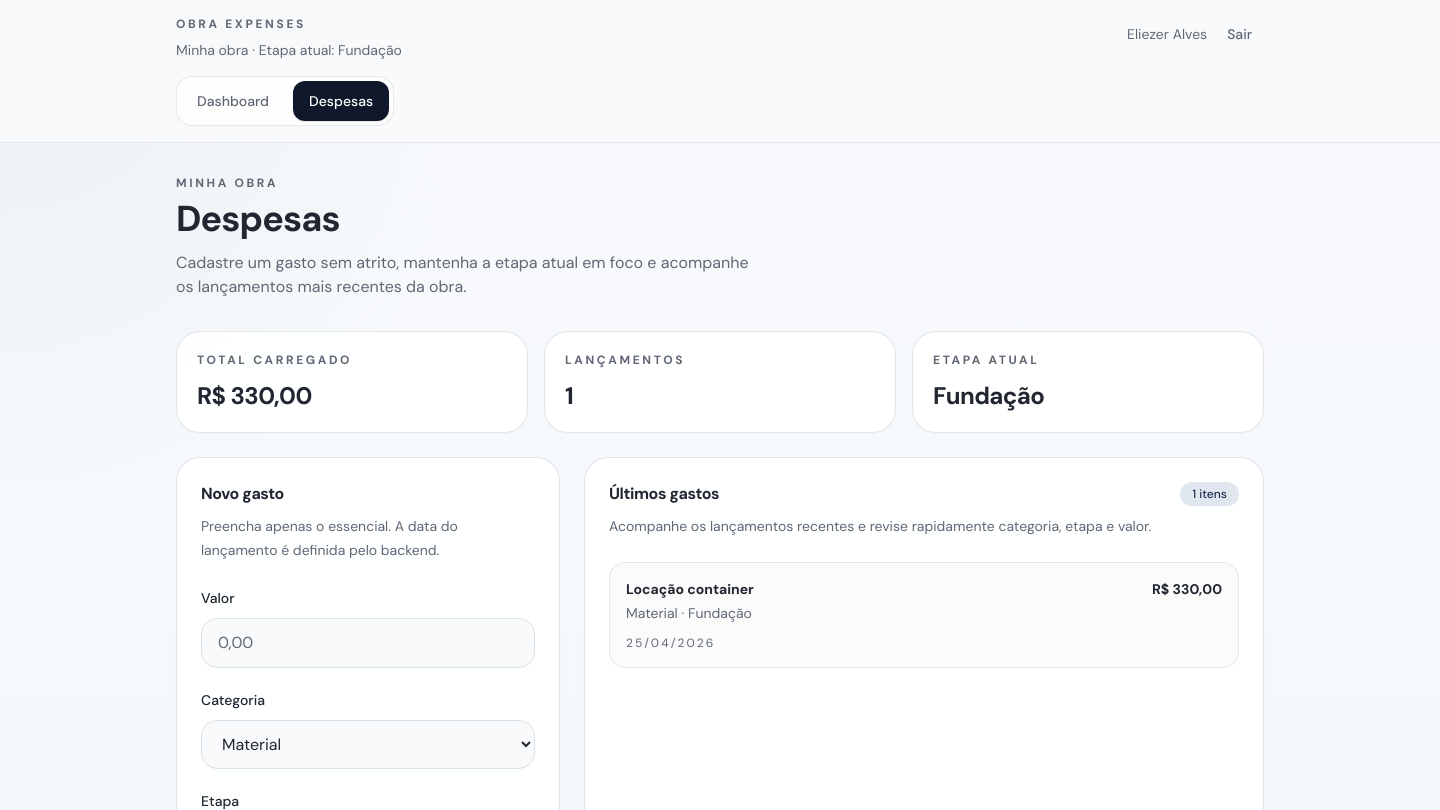
ExpensesPage › allows empty description and submits a valid expense
Type "450" into the number field labelled "Valor" at (368, 643), box x1=201 y1=618 x2=535 y2=668
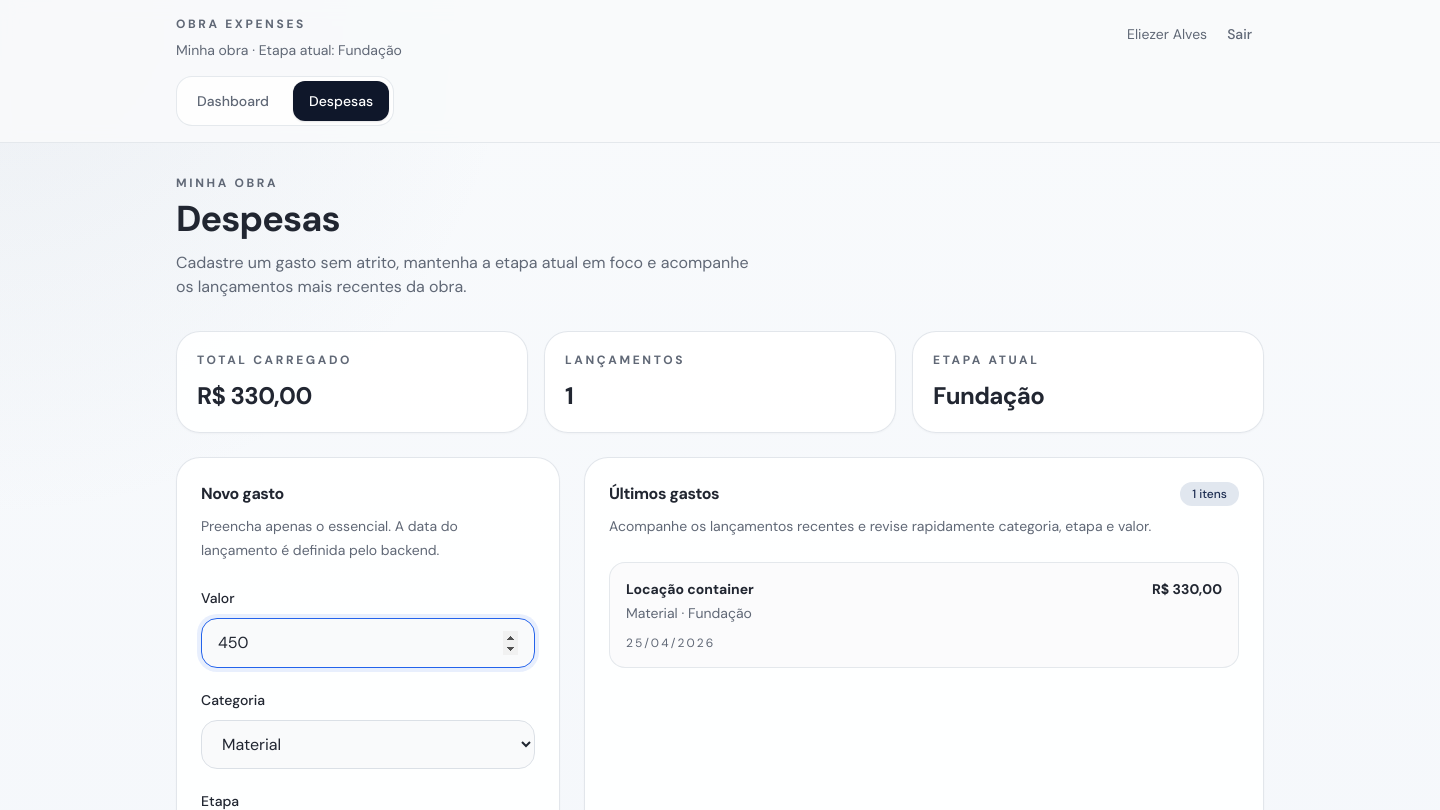
Select "Material" in the dropdown labelled "Categoria" at (368, 744), box x1=201 y1=720 x2=535 y2=769
(page scrolled)
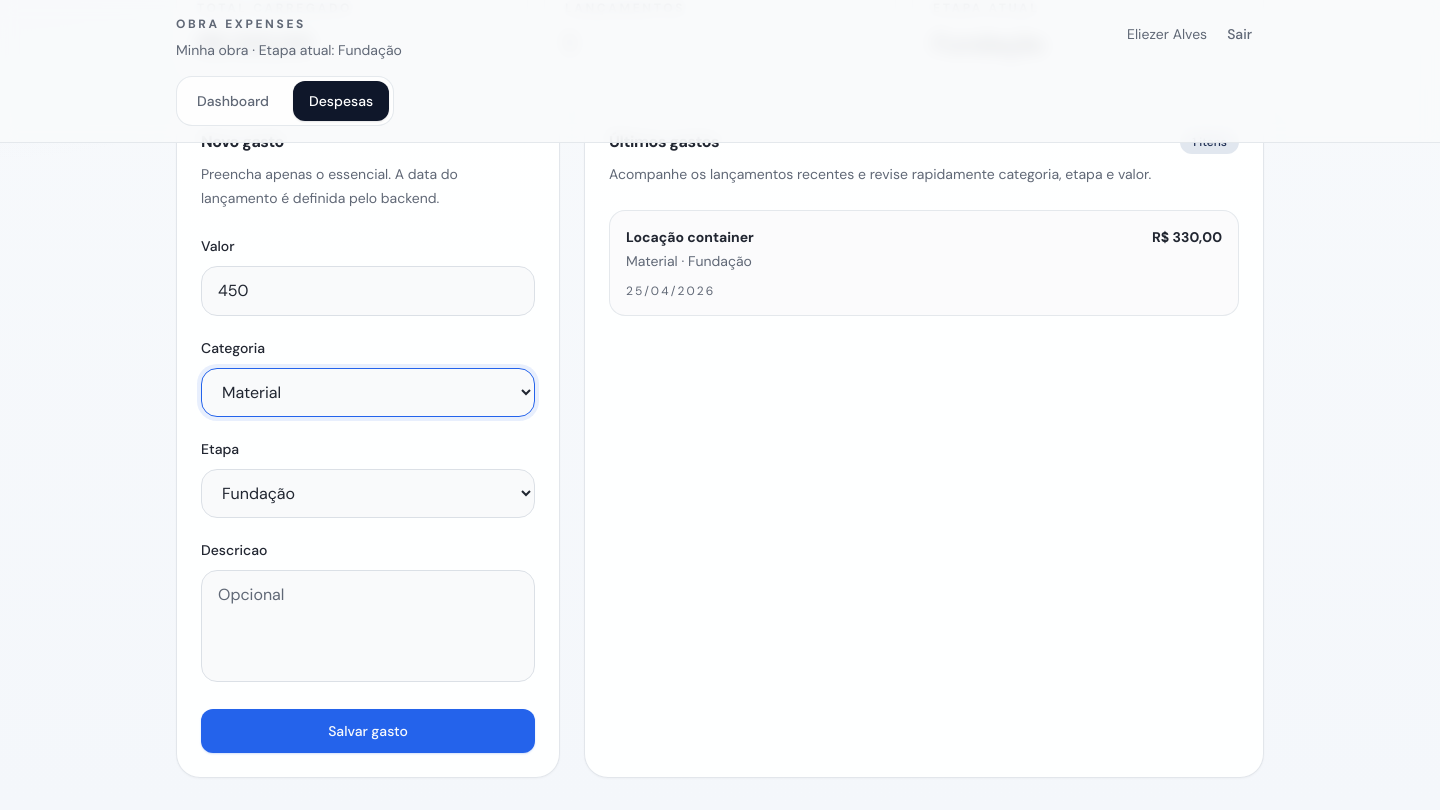
Select "Fundação" in the dropdown labelled "Etapa" at (368, 494), box x1=201 y1=469 x2=535 y2=518
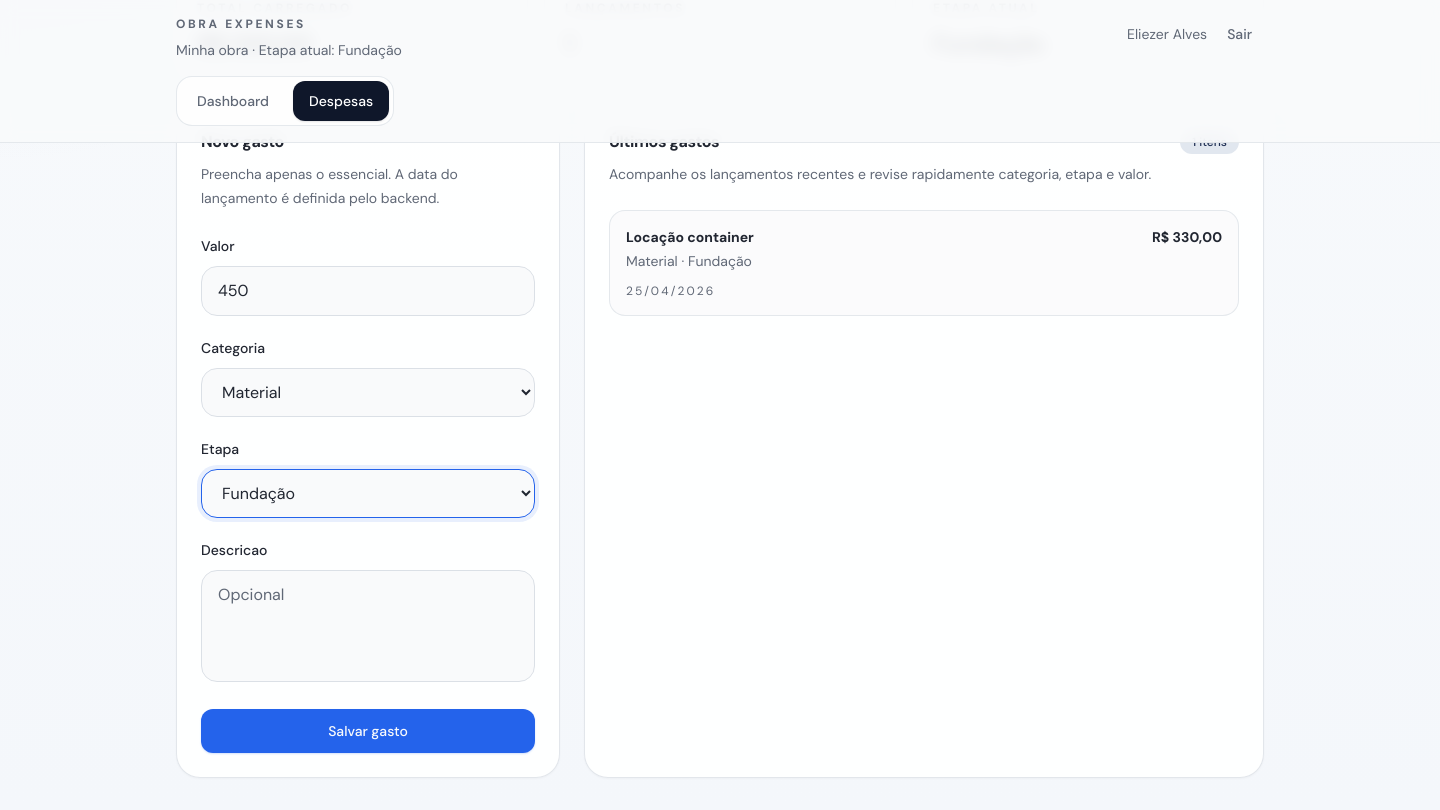
Clear the text box labelled "Descricao" at (368, 626), box x1=201 y1=570 x2=535 y2=682
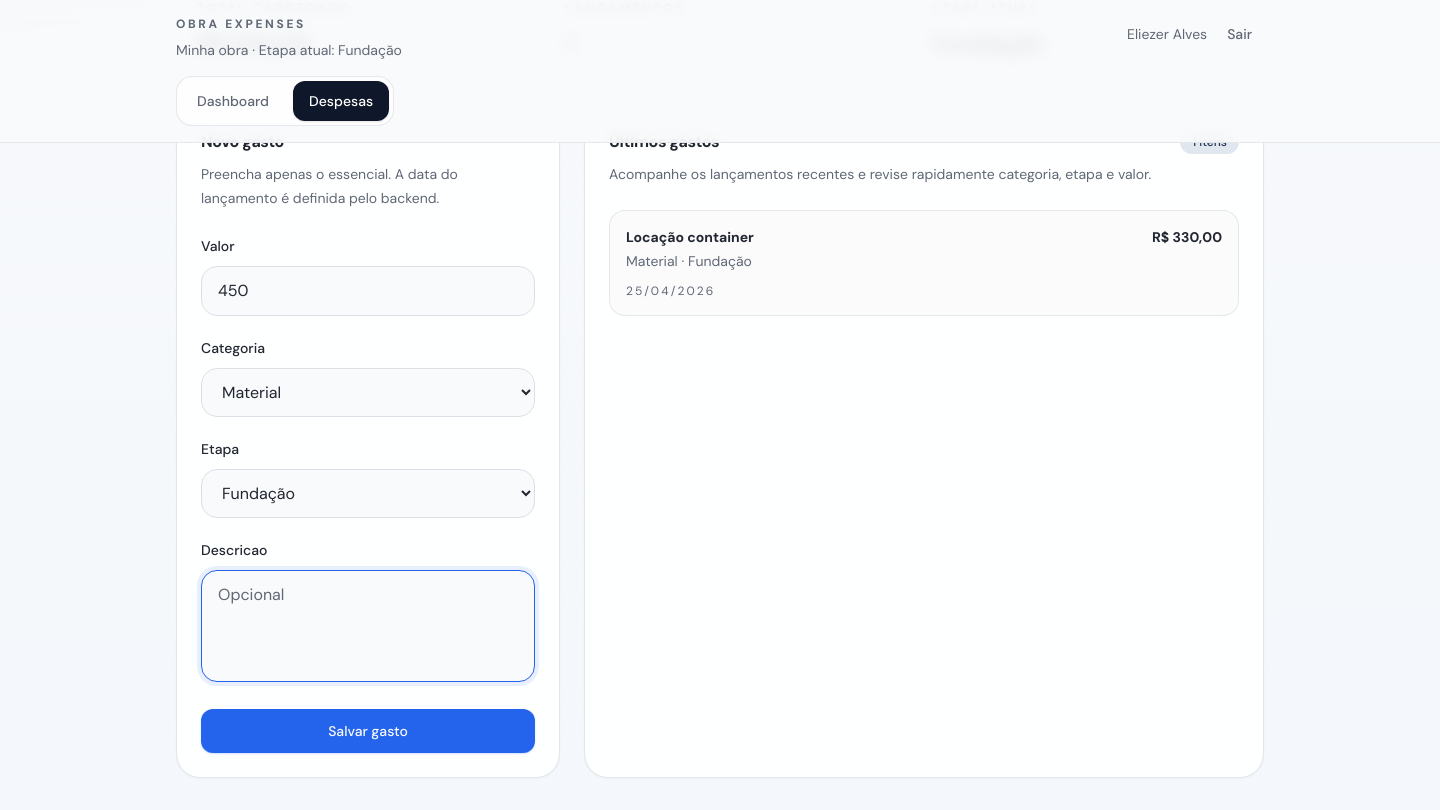
Click the button "Salvar gasto" at (368, 731), box x1=201 y1=709 x2=535 y2=753
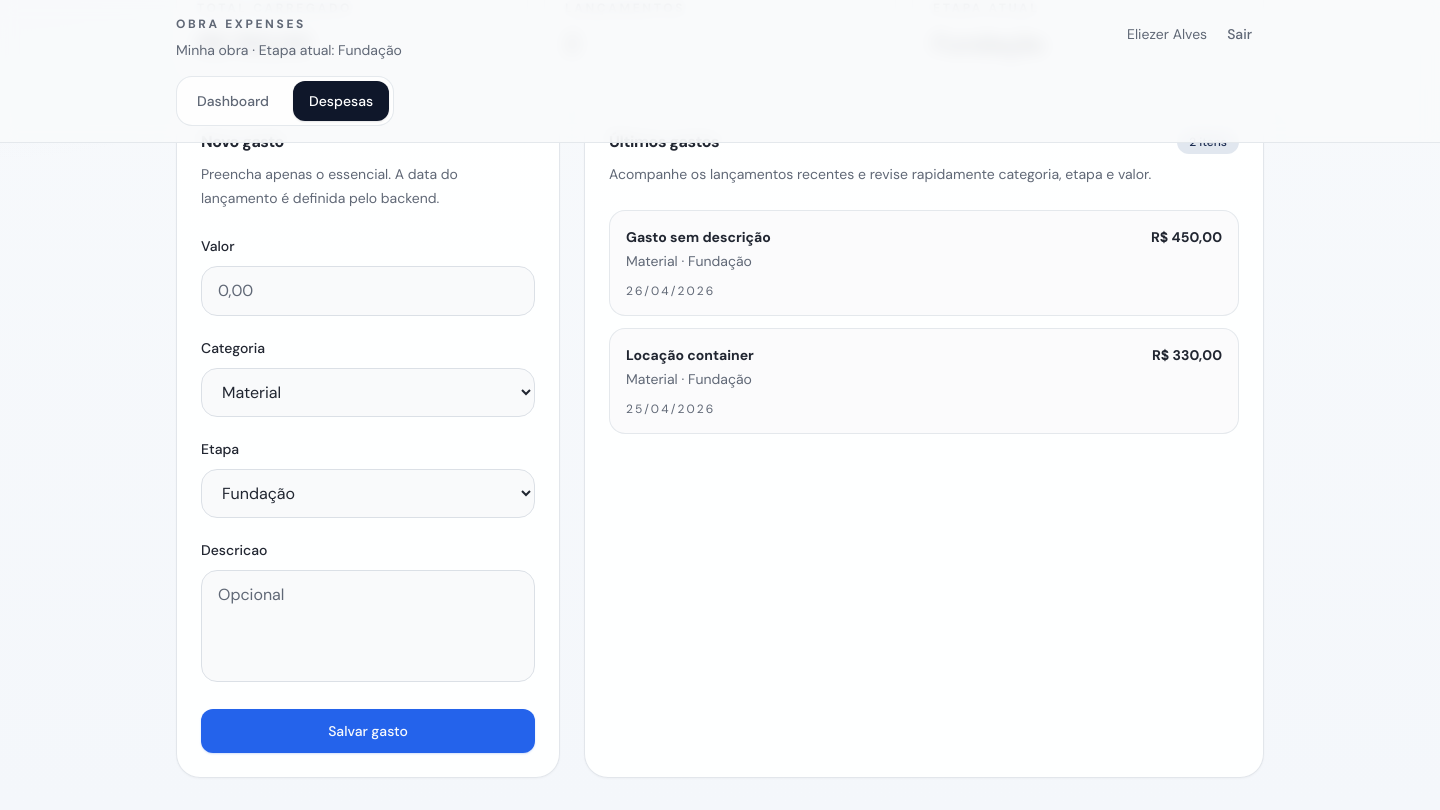
Expected: the text "R$ 450,00" is shown, x1=1151 y1=227 x2=1222 y2=247
